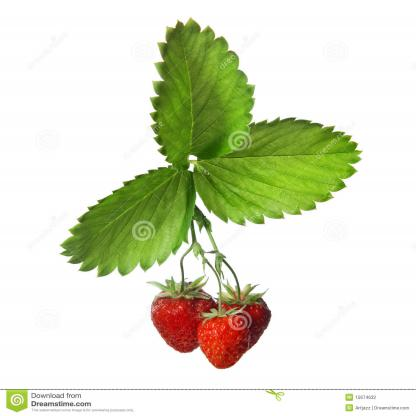Strawberry leaf: (183, 111, 366, 230), (54, 158, 204, 280), (145, 10, 255, 172)
